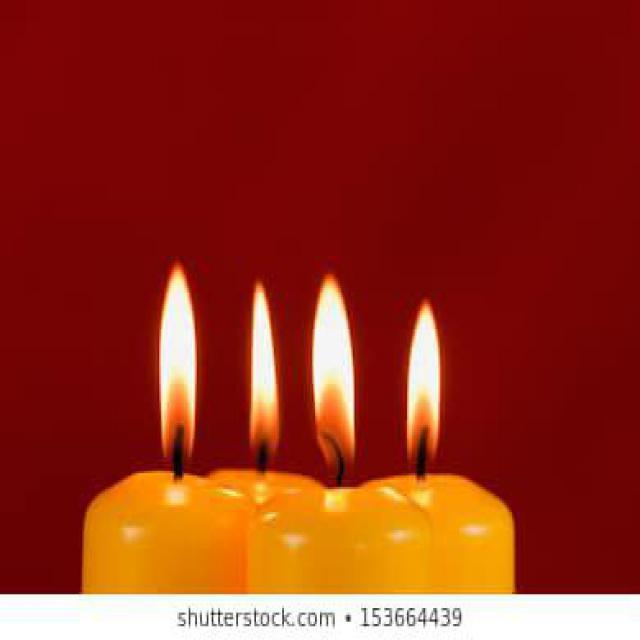Fire: (312, 272, 356, 476), (158, 263, 194, 464), (406, 299, 441, 466), (250, 284, 280, 460)
